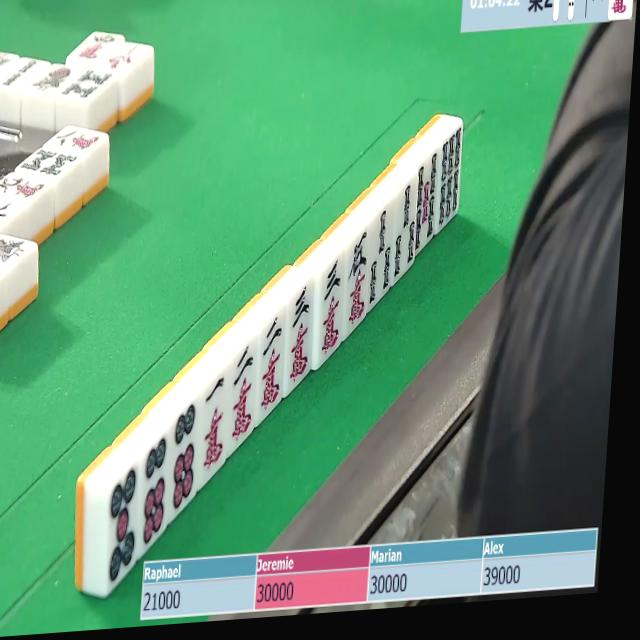m1: (195, 370, 230, 476)
m2: (255, 309, 288, 418), (229, 337, 262, 445)
m3: (285, 280, 318, 386), (316, 252, 348, 361), (609, 0, 636, 20)
m5: (343, 226, 371, 332)
s3: (369, 200, 400, 303), (395, 177, 421, 279)
s5: (414, 154, 443, 251)
s6: (435, 127, 464, 229)
s8: (21, 145, 79, 183)
t5: (106, 465, 144, 587)
t6: (137, 431, 173, 552), (168, 397, 203, 517)
